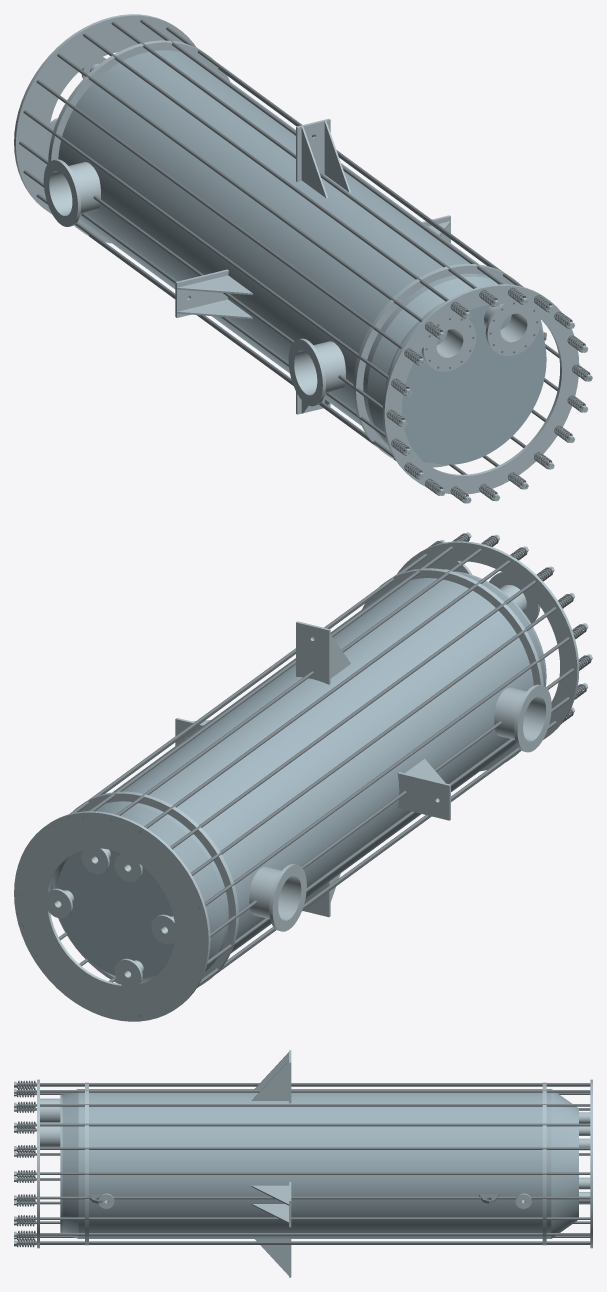
3 renders of one model, top to bottom at view 1: azimuth 30°, elevation 25°; view 2: azimuth 150°, elevation 25°; view 3: azimuth 270°, elevation 25°, orthographic. The views are drawn at different scales.
Visible parts, largest first — view 1: 本体_外壳OD1300, 本体_上端集流盖, 本体_上压板, 本体_下压板, 本体_上端收口, 本体_上端连接圈, 本体_下端连接圈, 拉杆_10, 拉杆_09, 拉杆_08, 拉杆_07, 拉杆_06 (+17 smaller); view 2: 本体_外壳OD1300, 本体_下压板, 本体_下端收口, 本体_上压板, 本体_下端连接圈, 本体_上端连接圈, 托耳_R2_承托底板, 托耳_R1_承托底板, 拉杆_08, 拉杆_09, 拉杆_10, 拉杆_07 (+14 smaller); view 3: 本体_外壳OD1300, 本体_下端收口, 拉杆_04, 拉杆_18, 本体_上端收口, 拉杆_01, 拉杆_03, 拉杆_02, 拉杆_19, 拉杆_05, 拉杆_20, 拉杆_06 (+14 smaller).
Boxes of the visible parts, bbox=[...] form: 本体_外壳OD1300: bbox=[58, 50, 505, 445]; 本体_上端集流盖: bbox=[385, 301, 546, 464]; 本体_上压板: bbox=[382, 284, 579, 494]; 本体_下压板: bbox=[14, 14, 195, 213]; 本体_上端收口: bbox=[367, 276, 504, 462]; 本体_上端连接圈: bbox=[353, 263, 543, 467]; 本体_下端连接圈: bbox=[48, 40, 229, 243]; 拉杆_10: bbox=[23, 110, 410, 394]; 拉杆_09: bbox=[36, 80, 423, 364]; 拉杆_08: bbox=[57, 53, 443, 337]; 拉杆_07: bbox=[83, 33, 470, 315]; 拉杆_06: bbox=[111, 21, 498, 304]; 本体_外壳OD1300: bbox=[87, 578, 533, 971]; 本体_下压板: bbox=[14, 811, 210, 1021]; 本体_下端收口: bbox=[52, 803, 225, 982]; 本体_上压板: bbox=[397, 541, 579, 739]; 本体_下端连接圈: bbox=[50, 791, 238, 986]; 本体_上端连接圈: bbox=[362, 568, 543, 771]; 托耳_R2_承托底板: bbox=[397, 772, 450, 820]; 托耳_R1_承托底板: bbox=[296, 621, 330, 684]; 拉杆_08: bbox=[170, 569, 551, 849]; 拉杆_09: bbox=[191, 595, 571, 875]; 拉杆_10: bbox=[198, 626, 584, 907]; 拉杆_07: bbox=[139, 549, 525, 833]; 本体_外壳OD1300: bbox=[78, 1089, 551, 1238]; 本体_下端收口: bbox=[551, 1089, 578, 1238]; 拉杆_04: bbox=[16, 1123, 590, 1126]; 拉杆_18: bbox=[16, 1241, 590, 1244]; 本体_上端收口: bbox=[62, 1089, 78, 1238]; 拉杆_01: bbox=[16, 1196, 590, 1199]; 拉杆_03: bbox=[16, 1147, 590, 1149]; 拉杆_02: bbox=[16, 1172, 590, 1174]; 拉杆_19: bbox=[16, 1233, 590, 1235]; 拉杆_05: bbox=[16, 1104, 590, 1106]; 拉杆_20: bbox=[16, 1217, 590, 1219]; 拉杆_06: bbox=[16, 1090, 590, 1092].
Bounding box in the file's own units: 2.06 × 2.06 × 5.01.
